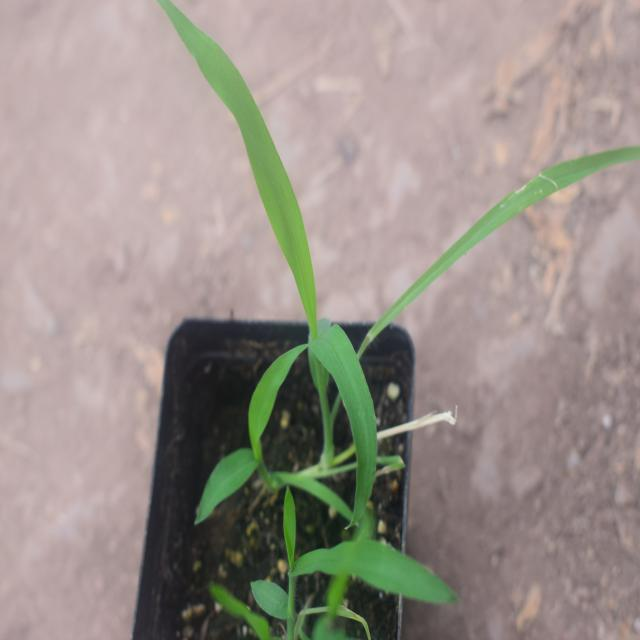crabgrass: (152, 0, 390, 510), (239, 475, 451, 638)
